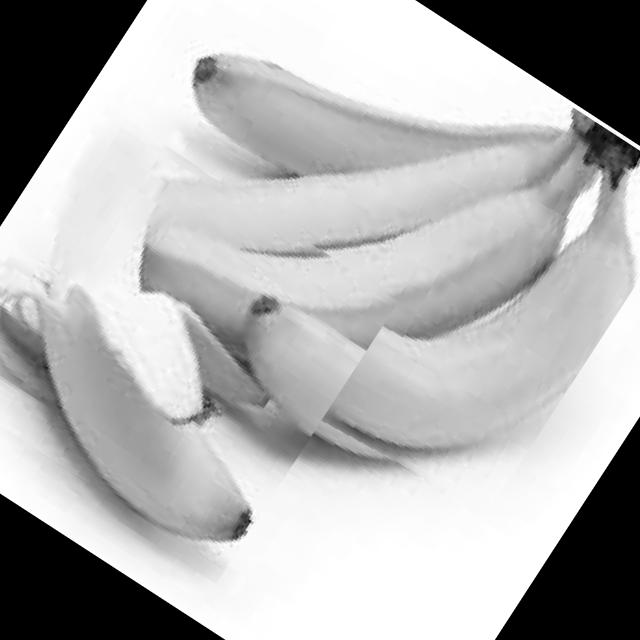Organic: (7, 0, 640, 544), (0, 110, 400, 570)
